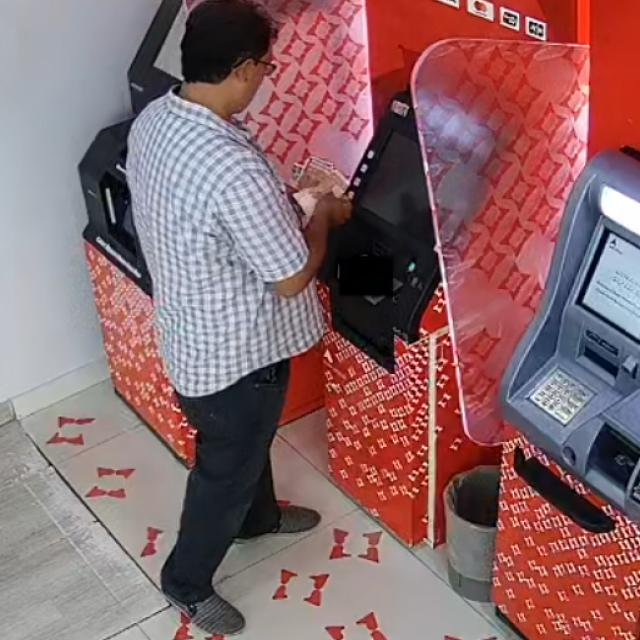note: (288, 153, 359, 219)
